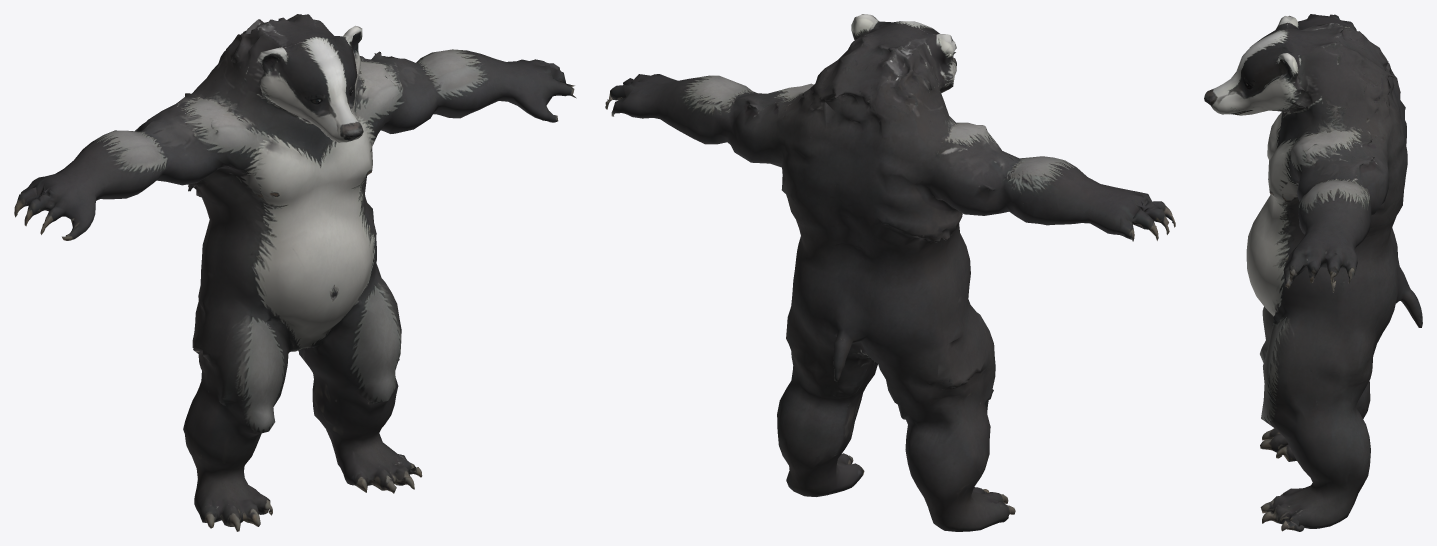
The model's file is Badger_E.fbx.
3 views of the same model, side by side, from view 1: azimuth 30°, elevation 25°; view 2: azimuth 150°, elevation 25°; view 3: azimuth 270°, elevation 25° (orthographic). The views are drawn at different scales.
Parts seen in each view (by area): view 1: Badger_E; view 2: Badger_E; view 3: Badger_E.
Boxes of the visible parts, left/top/right/bottom form: Badger_E: left=14, top=14, right=576, bottom=531; Badger_E: left=605, top=14, right=1175, bottom=531; Badger_E: left=1204, top=14, right=1422, bottom=531.
Bounding box in the file's own units: 0.9949 × 0.8098 × 0.3557.
Materials: 1 (1 with a texture image).
